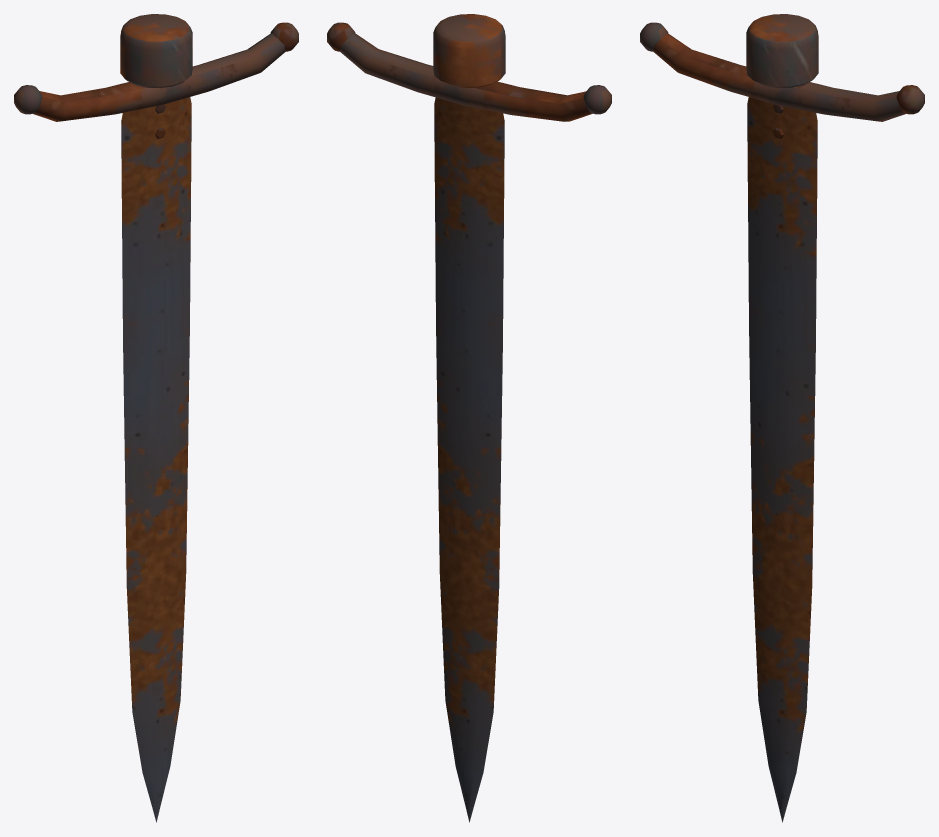
File: Blade_Sword.glb
3 renders of one model, left to right at view 1: azimuth 30°, elevation 25°; view 2: azimuth 150°, elevation 25°; view 3: azimuth 330°, elevation 25°, orthographic.
Parts seen in each view (by area): view 1: Blade_Sword; view 2: Blade_Sword; view 3: Blade_Sword.
Boxes of the visible parts, x1=… form: Blade_Sword: x1=14, y1=14, x2=298, y2=822; Blade_Sword: x1=327, y1=14, x2=611, y2=822; Blade_Sword: x1=640, y1=14, x2=924, y2=822.
Bounding box in the file's own units: 0.3026 × 0.82 × 0.068.
Materials: 3 (3 with a texture image).
